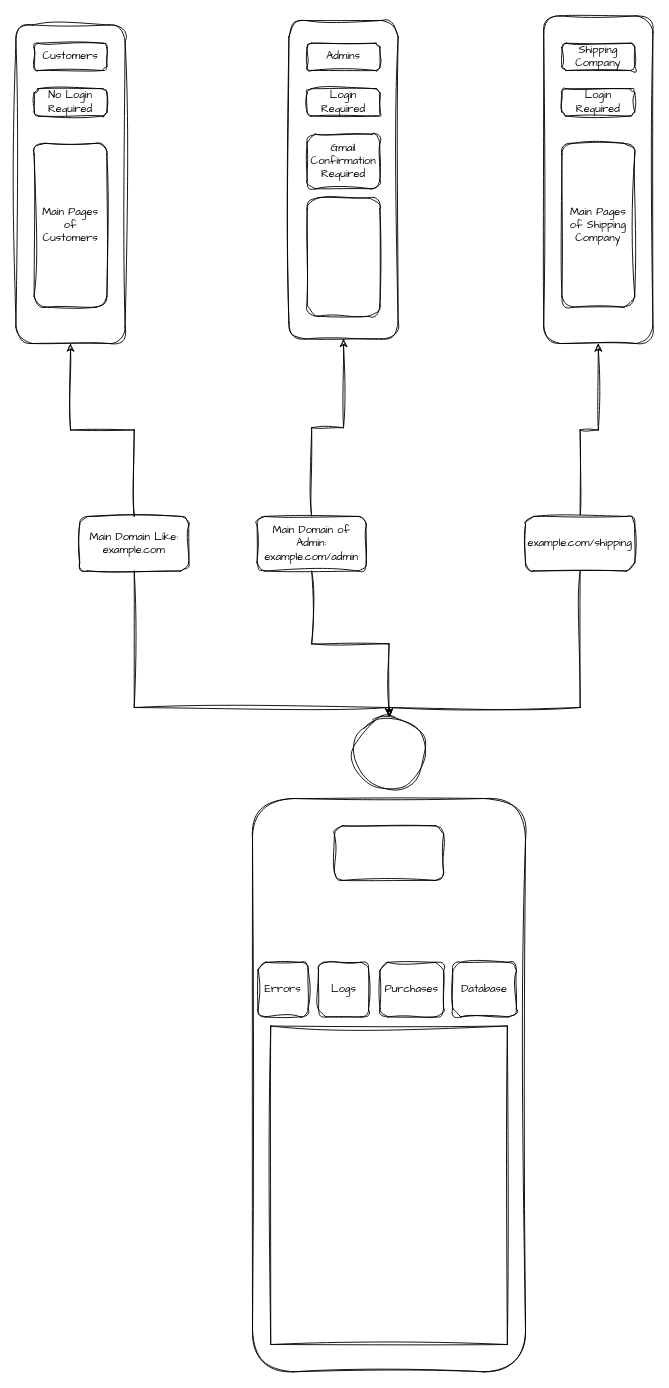
The diagram is 669 pixels wide and 1388 high, and some of its shapes have lost their labels. Each missing label, with the centre of its shape:
"Details" belongs at (388,1185).
"Main Pages of Admins" belongs at (343,256).
"Monitor" belongs at (389,852).
"OUR Sigle Log Page" belongs at (388,752).
